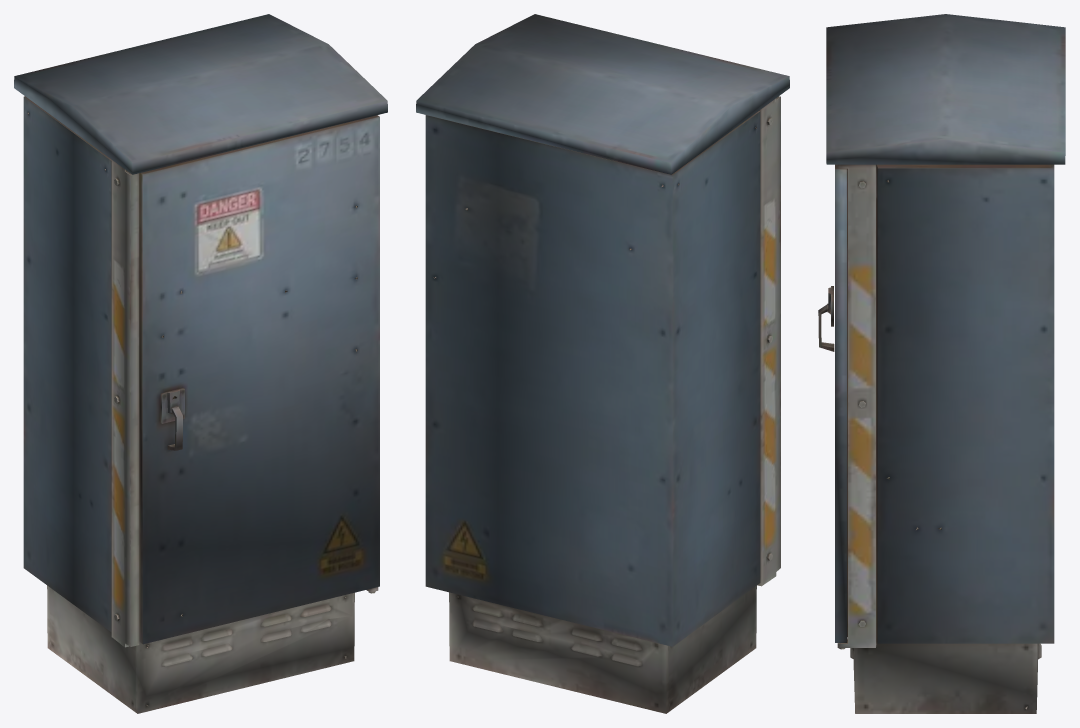
File: utility_box_01.glb
3 renders of one model, left to right at view 1: azimuth 30°, elevation 25°; view 2: azimuth 150°, elevation 25°; view 3: azimuth 270°, elevation 25°, orthographic.
Visible parts, largest first — view 1: utility_box_01_box; view 2: utility_box_01_box; view 3: utility_box_01_box.
Part boxes in pixels (x1=…): utility_box_01_box: x1=14, y1=14, x2=387, y2=713; utility_box_01_box: x1=416, y1=14, x2=789, y2=713; utility_box_01_box: x1=818, y1=14, x2=1065, y2=713.
Size of the model in its own units: 0.5164 by 1.12 by 0.4287.
Materials: 1 (1 with a texture image).
